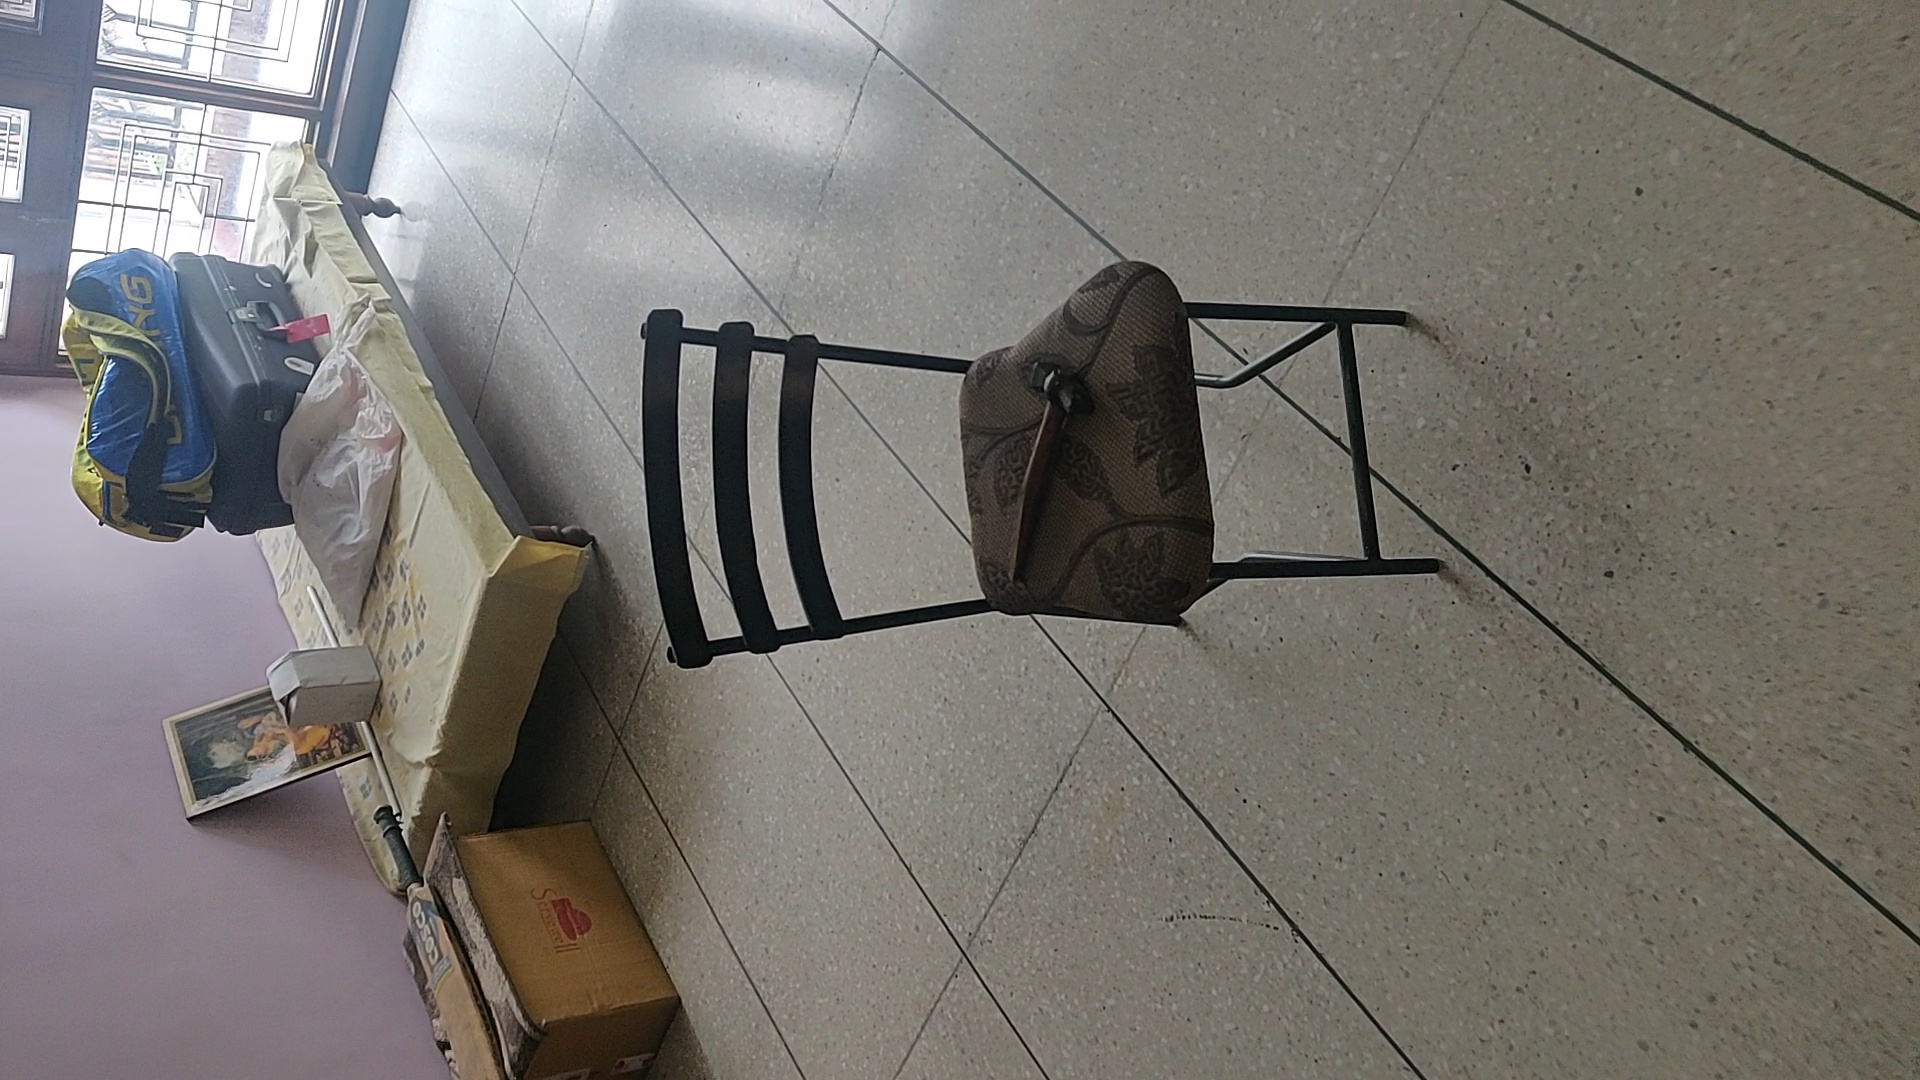hammer: (1004, 355, 1095, 582)
